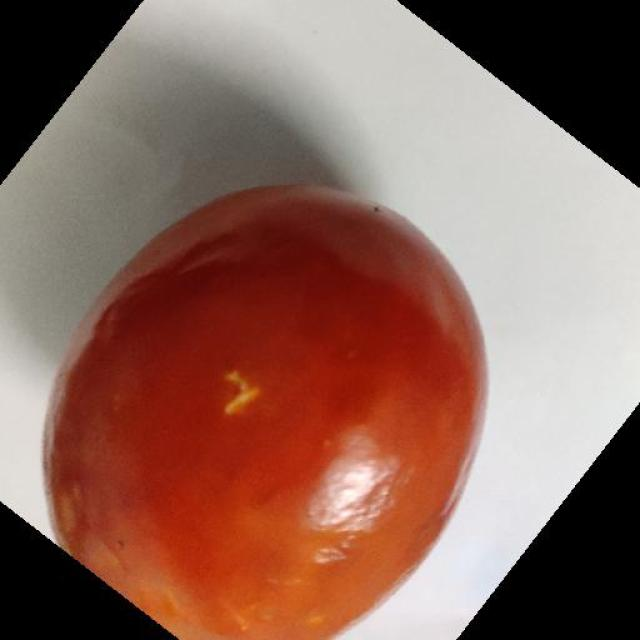Stale_tomato: (59, 158, 439, 640)
